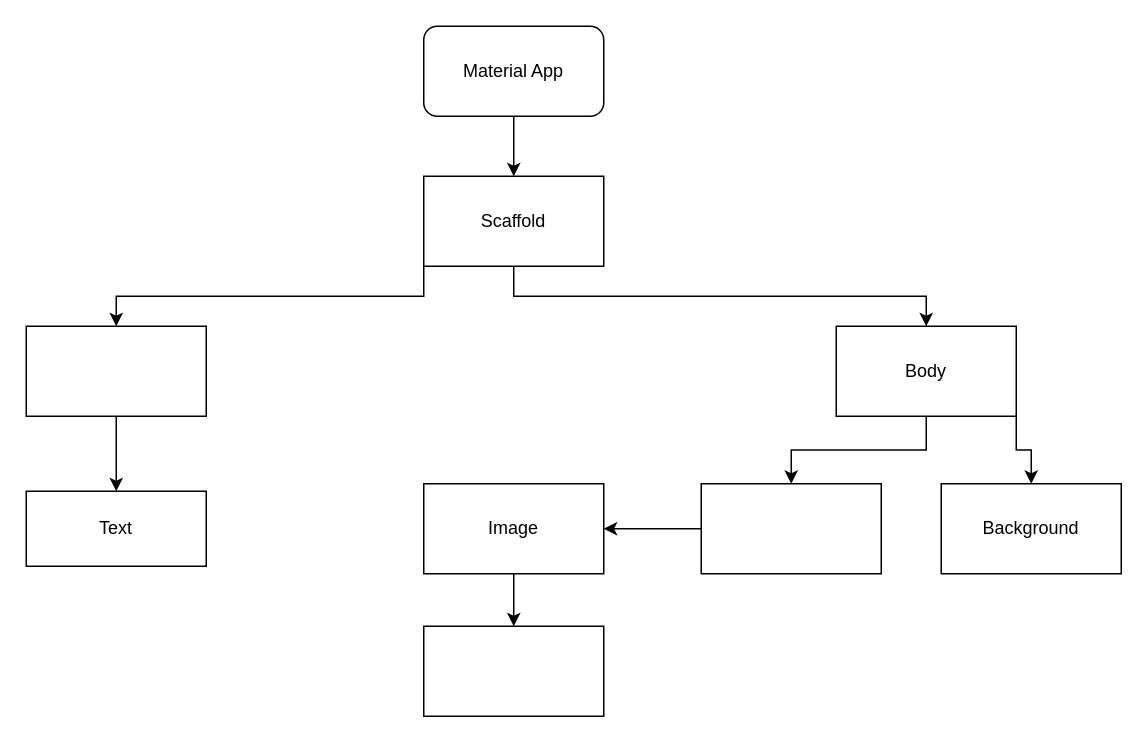
This 1148x743 diagram has some shape labels left out. The centre of each missing label's shape, as x and y in pixels:
"App bar" belongs at (115,370).
"Asset Image" belongs at (513,670).
"Center" belongs at (790,528).
